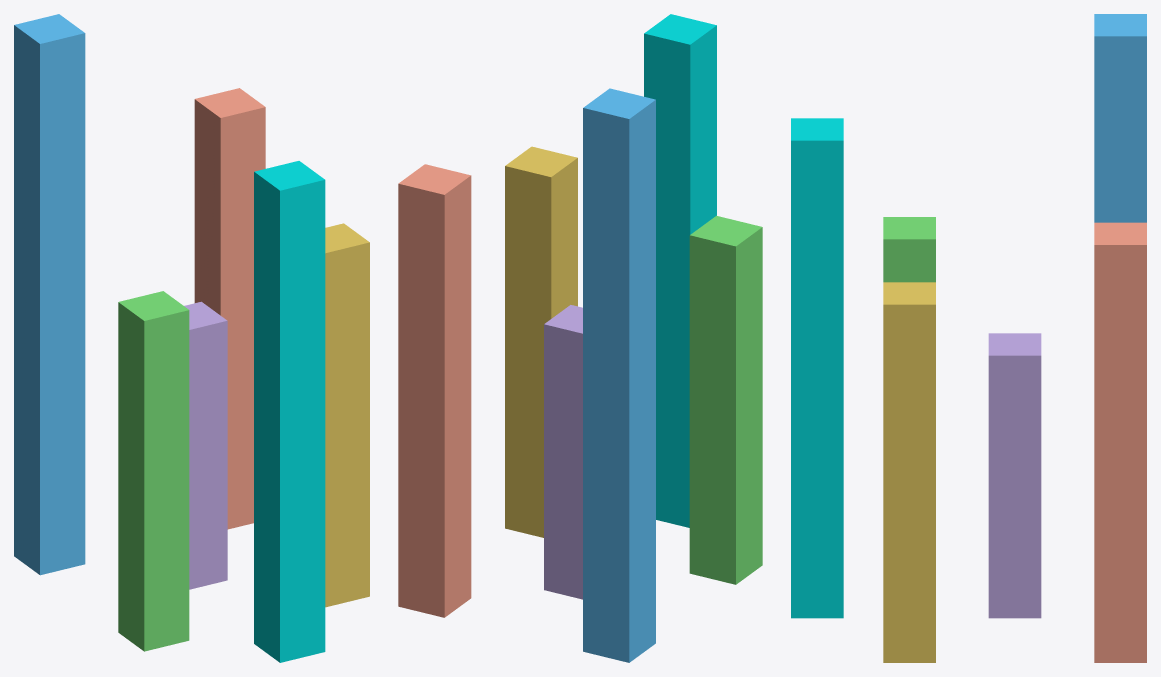
Rendered from city_2024.gltf.
3 views of the same model, side by side, from view 1: azimuth 30°, elevation 25°; view 2: azimuth 150°, elevation 25°; view 3: azimuth 270°, elevation 25° (orthographic). The views are drawn at different scales.
Visible parts, largest first — view 1: 金融中心大厦, 绿色生态塔, 科技研发中心, 环球商业广场, 国际公寓, 中央车站; view 2: 金融中心大厦, 环球商业广场, 科技研发中心, 绿色生态塔, 国际公寓, 中央车站; view 3: 绿色生态塔, 环球商业广场, 国际公寓, 中央车站, 金融中心大厦, 科技研发中心.
Part boxes in pixels (left/top/right/bottom): 金融中心大厦: left=14, top=14, right=85, bottom=575; 绿色生态塔: left=254, top=161, right=325, bottom=662; 科技研发中心: left=118, top=291, right=189, bottom=651; 环球商业广场: left=194, top=88, right=265, bottom=529; 国际公寓: left=325, top=223, right=369, bottom=607; 中央车站: left=184, top=301, right=227, bottom=589; 金融中心大厦: left=583, top=88, right=655, bottom=662; 环球商业广场: left=398, top=164, right=471, bottom=617; 科技研发中心: left=689, top=215, right=762, bottom=584; 绿色生态塔: left=644, top=14, right=716, bottom=527; 国际公寓: left=505, top=146, right=577, bottom=537; 中央车站: left=544, top=305, right=582, bottom=599; 绿色生态塔: left=791, top=118, right=843, bottom=618; 环球商业广场: left=1094, top=222, right=1146, bottom=662; 国际公寓: left=883, top=282, right=935, bottom=662; 中央车站: left=988, top=333, right=1041, bottom=618; 金融中心大厦: left=1094, top=14, right=1146, bottom=222; 科技研发中心: left=883, top=217, right=935, bottom=282.
Size of the model in its own units: 20 by 45 by 27.
